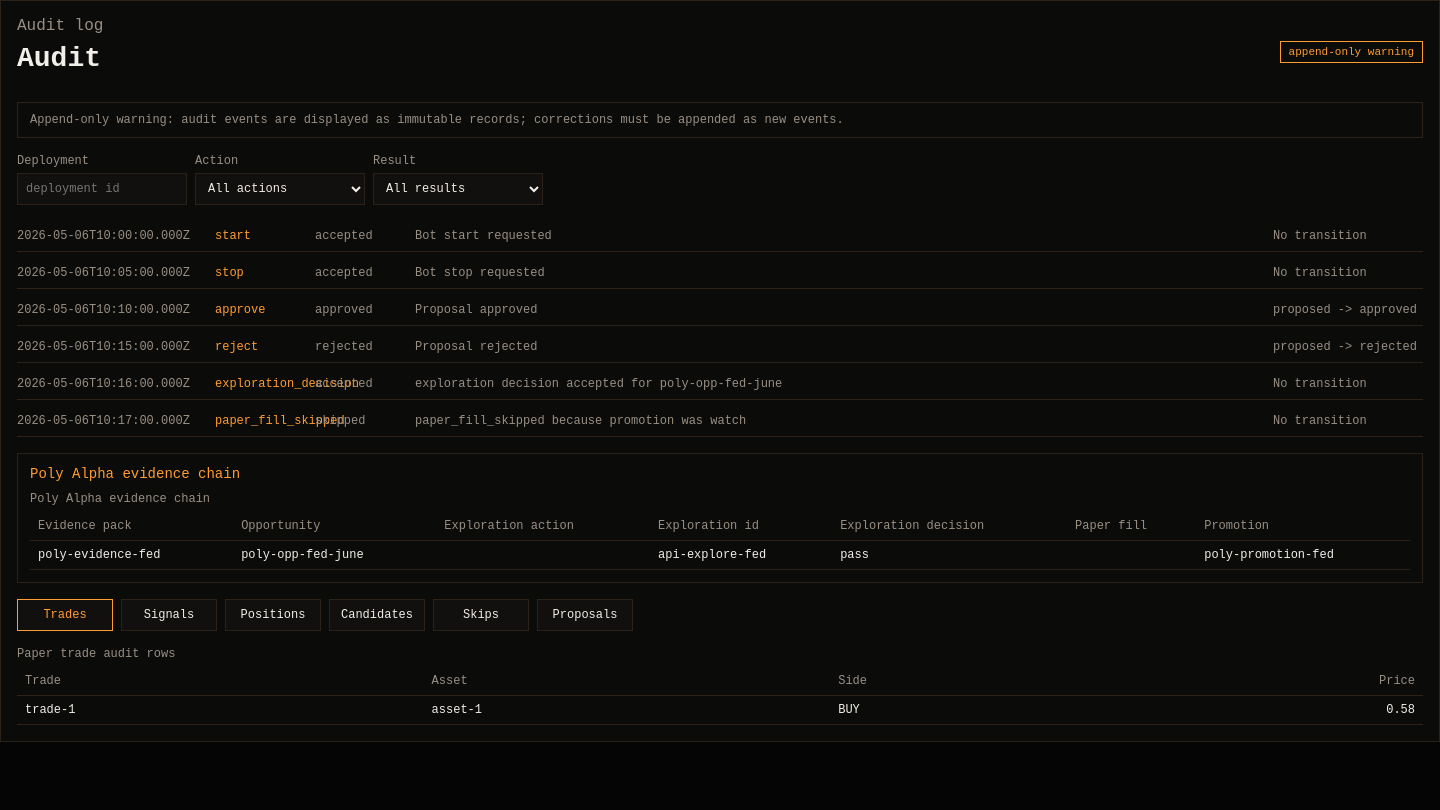
Test case: AuditPage › renders positions, candidates, and skips audit projections
Expected: the heading "Audit" is shown, [17,43,103,74]
Click the tab "positions" at (273, 615), box [225,599,321,631]
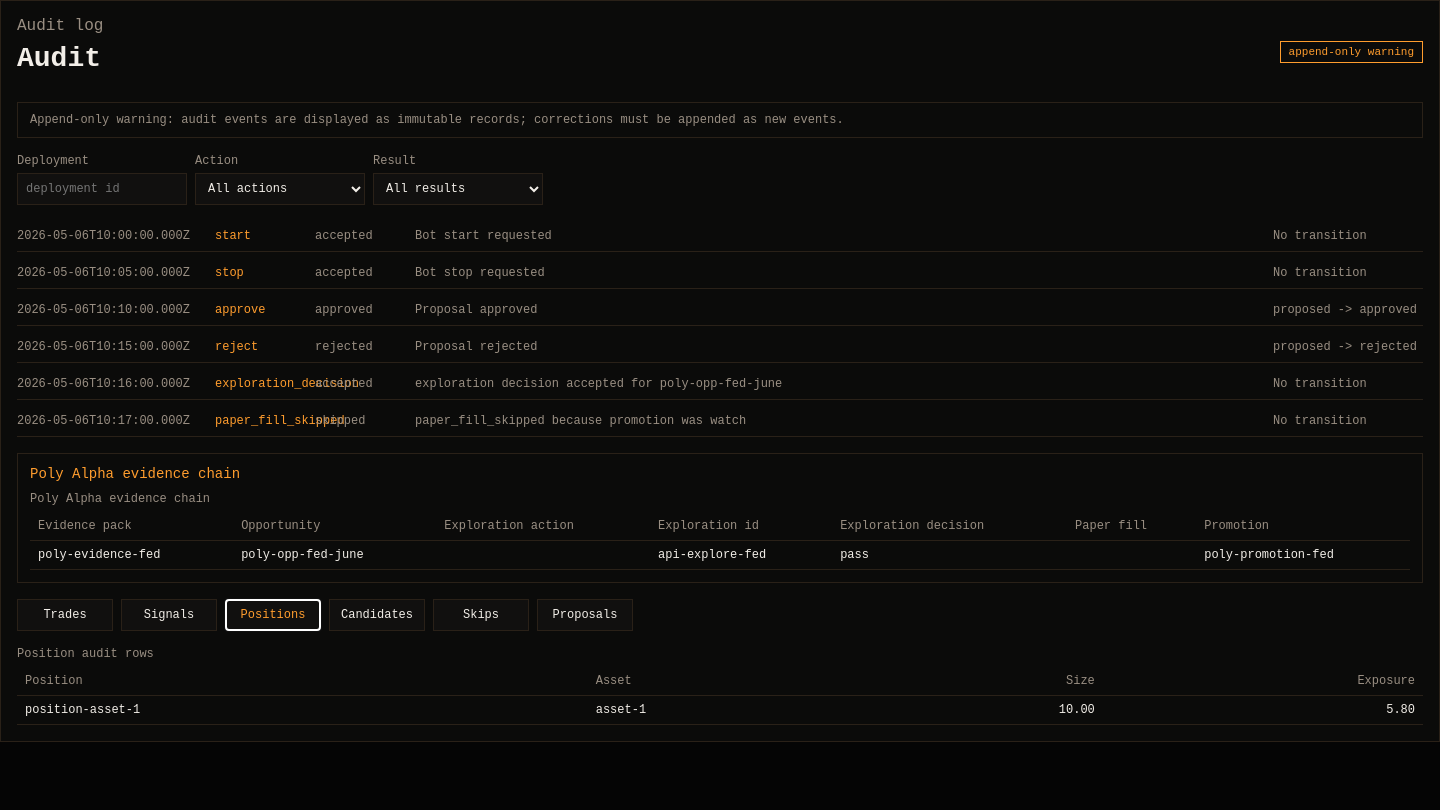
Expected: the text "asset-1" is shown, [588,696,877,724]
Expected: the text "position-asset-1" is shown, [17,696,588,724]
Click the tab "candidates" at (377, 615), box [329,599,425,631]
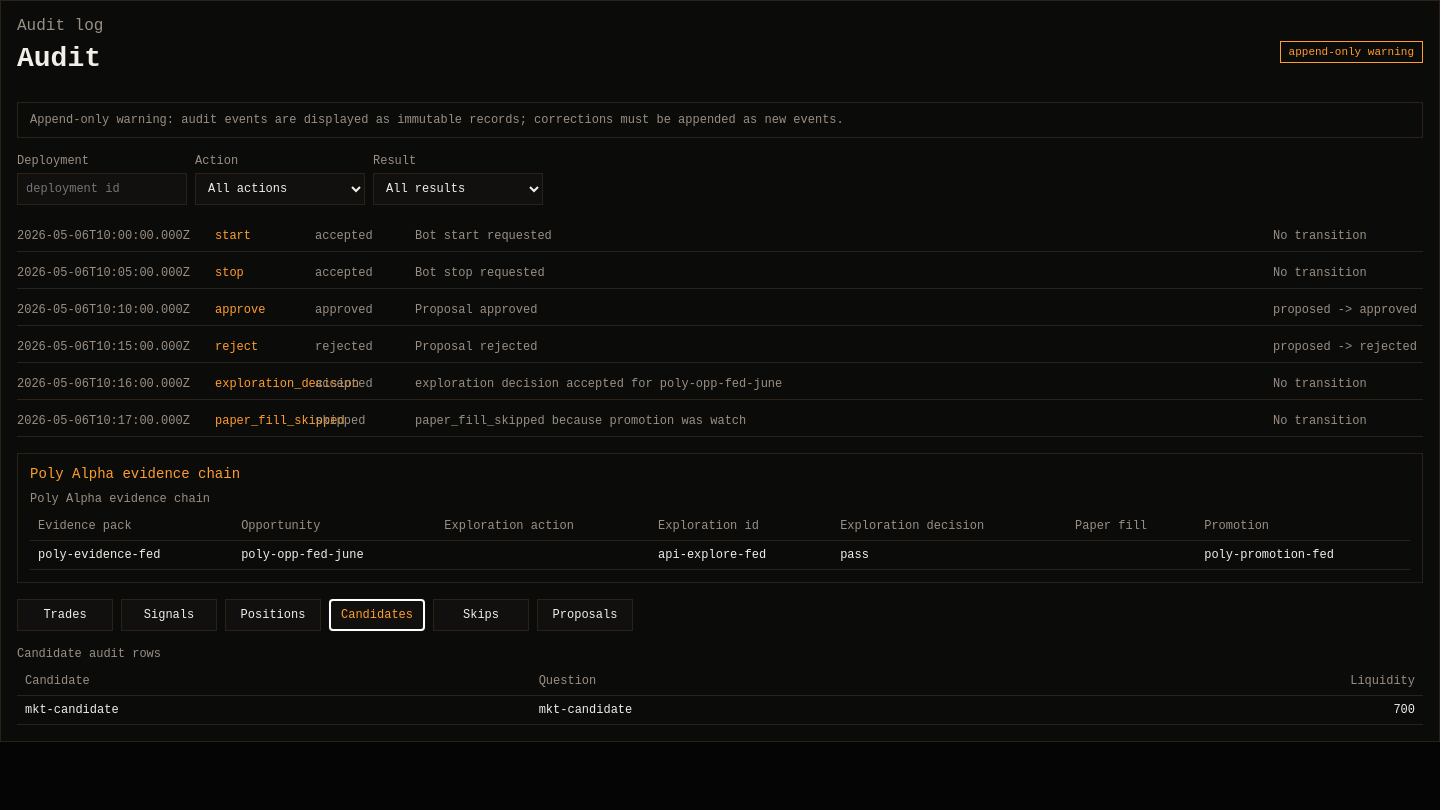
Expected: the 1st text "mkt-candidate" is shown, [17,696,531,724]
Click the tab "skips" at (481, 615), box [433,599,529,631]
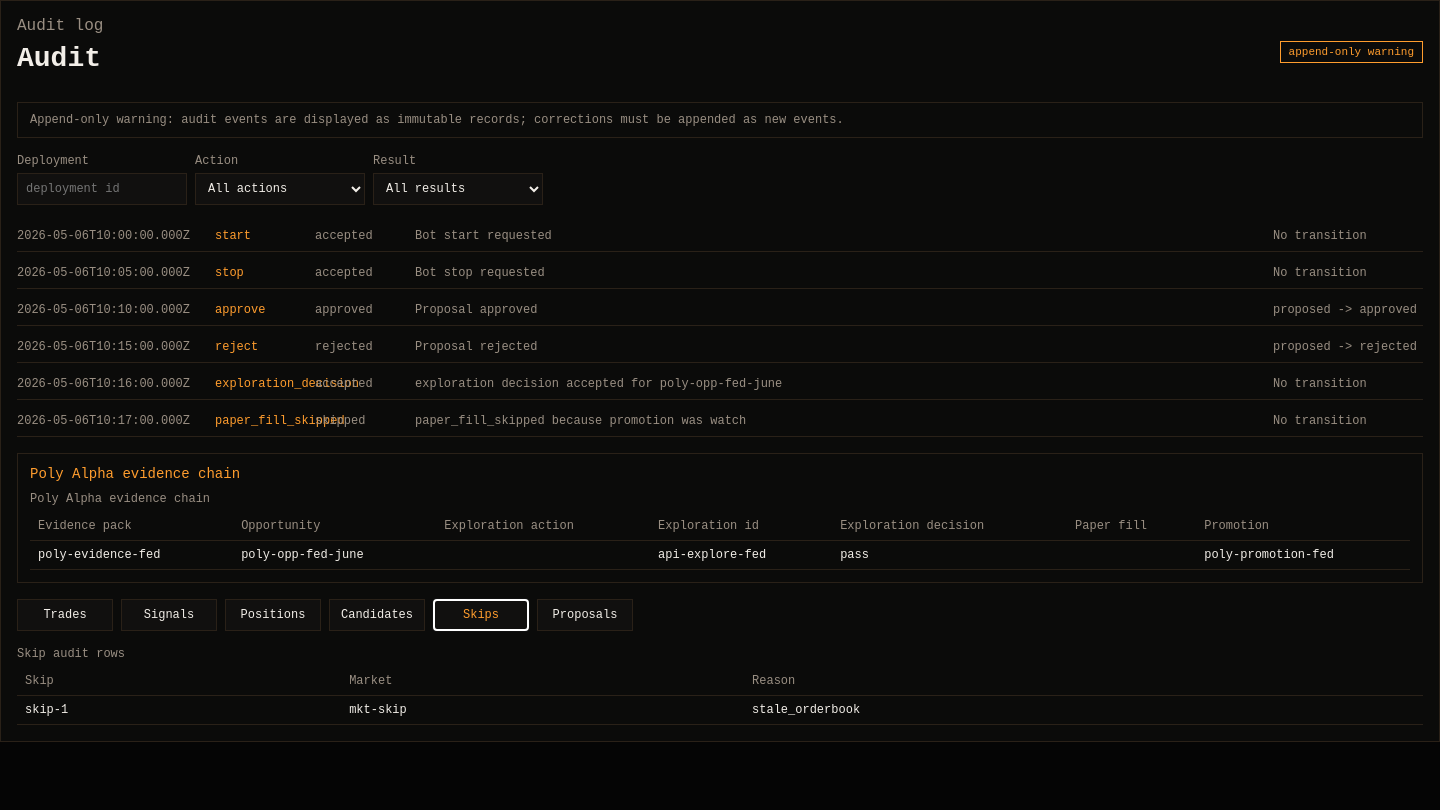
Expected: the text "skip-1" is shown, [17,696,341,724]
Expected: the text "stale_orderbook" is shown, [744,696,1423,724]
